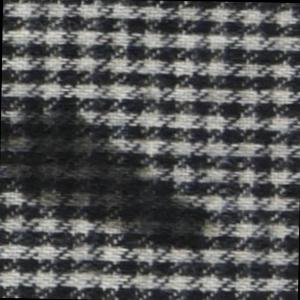Stain: (1, 95, 220, 255)
